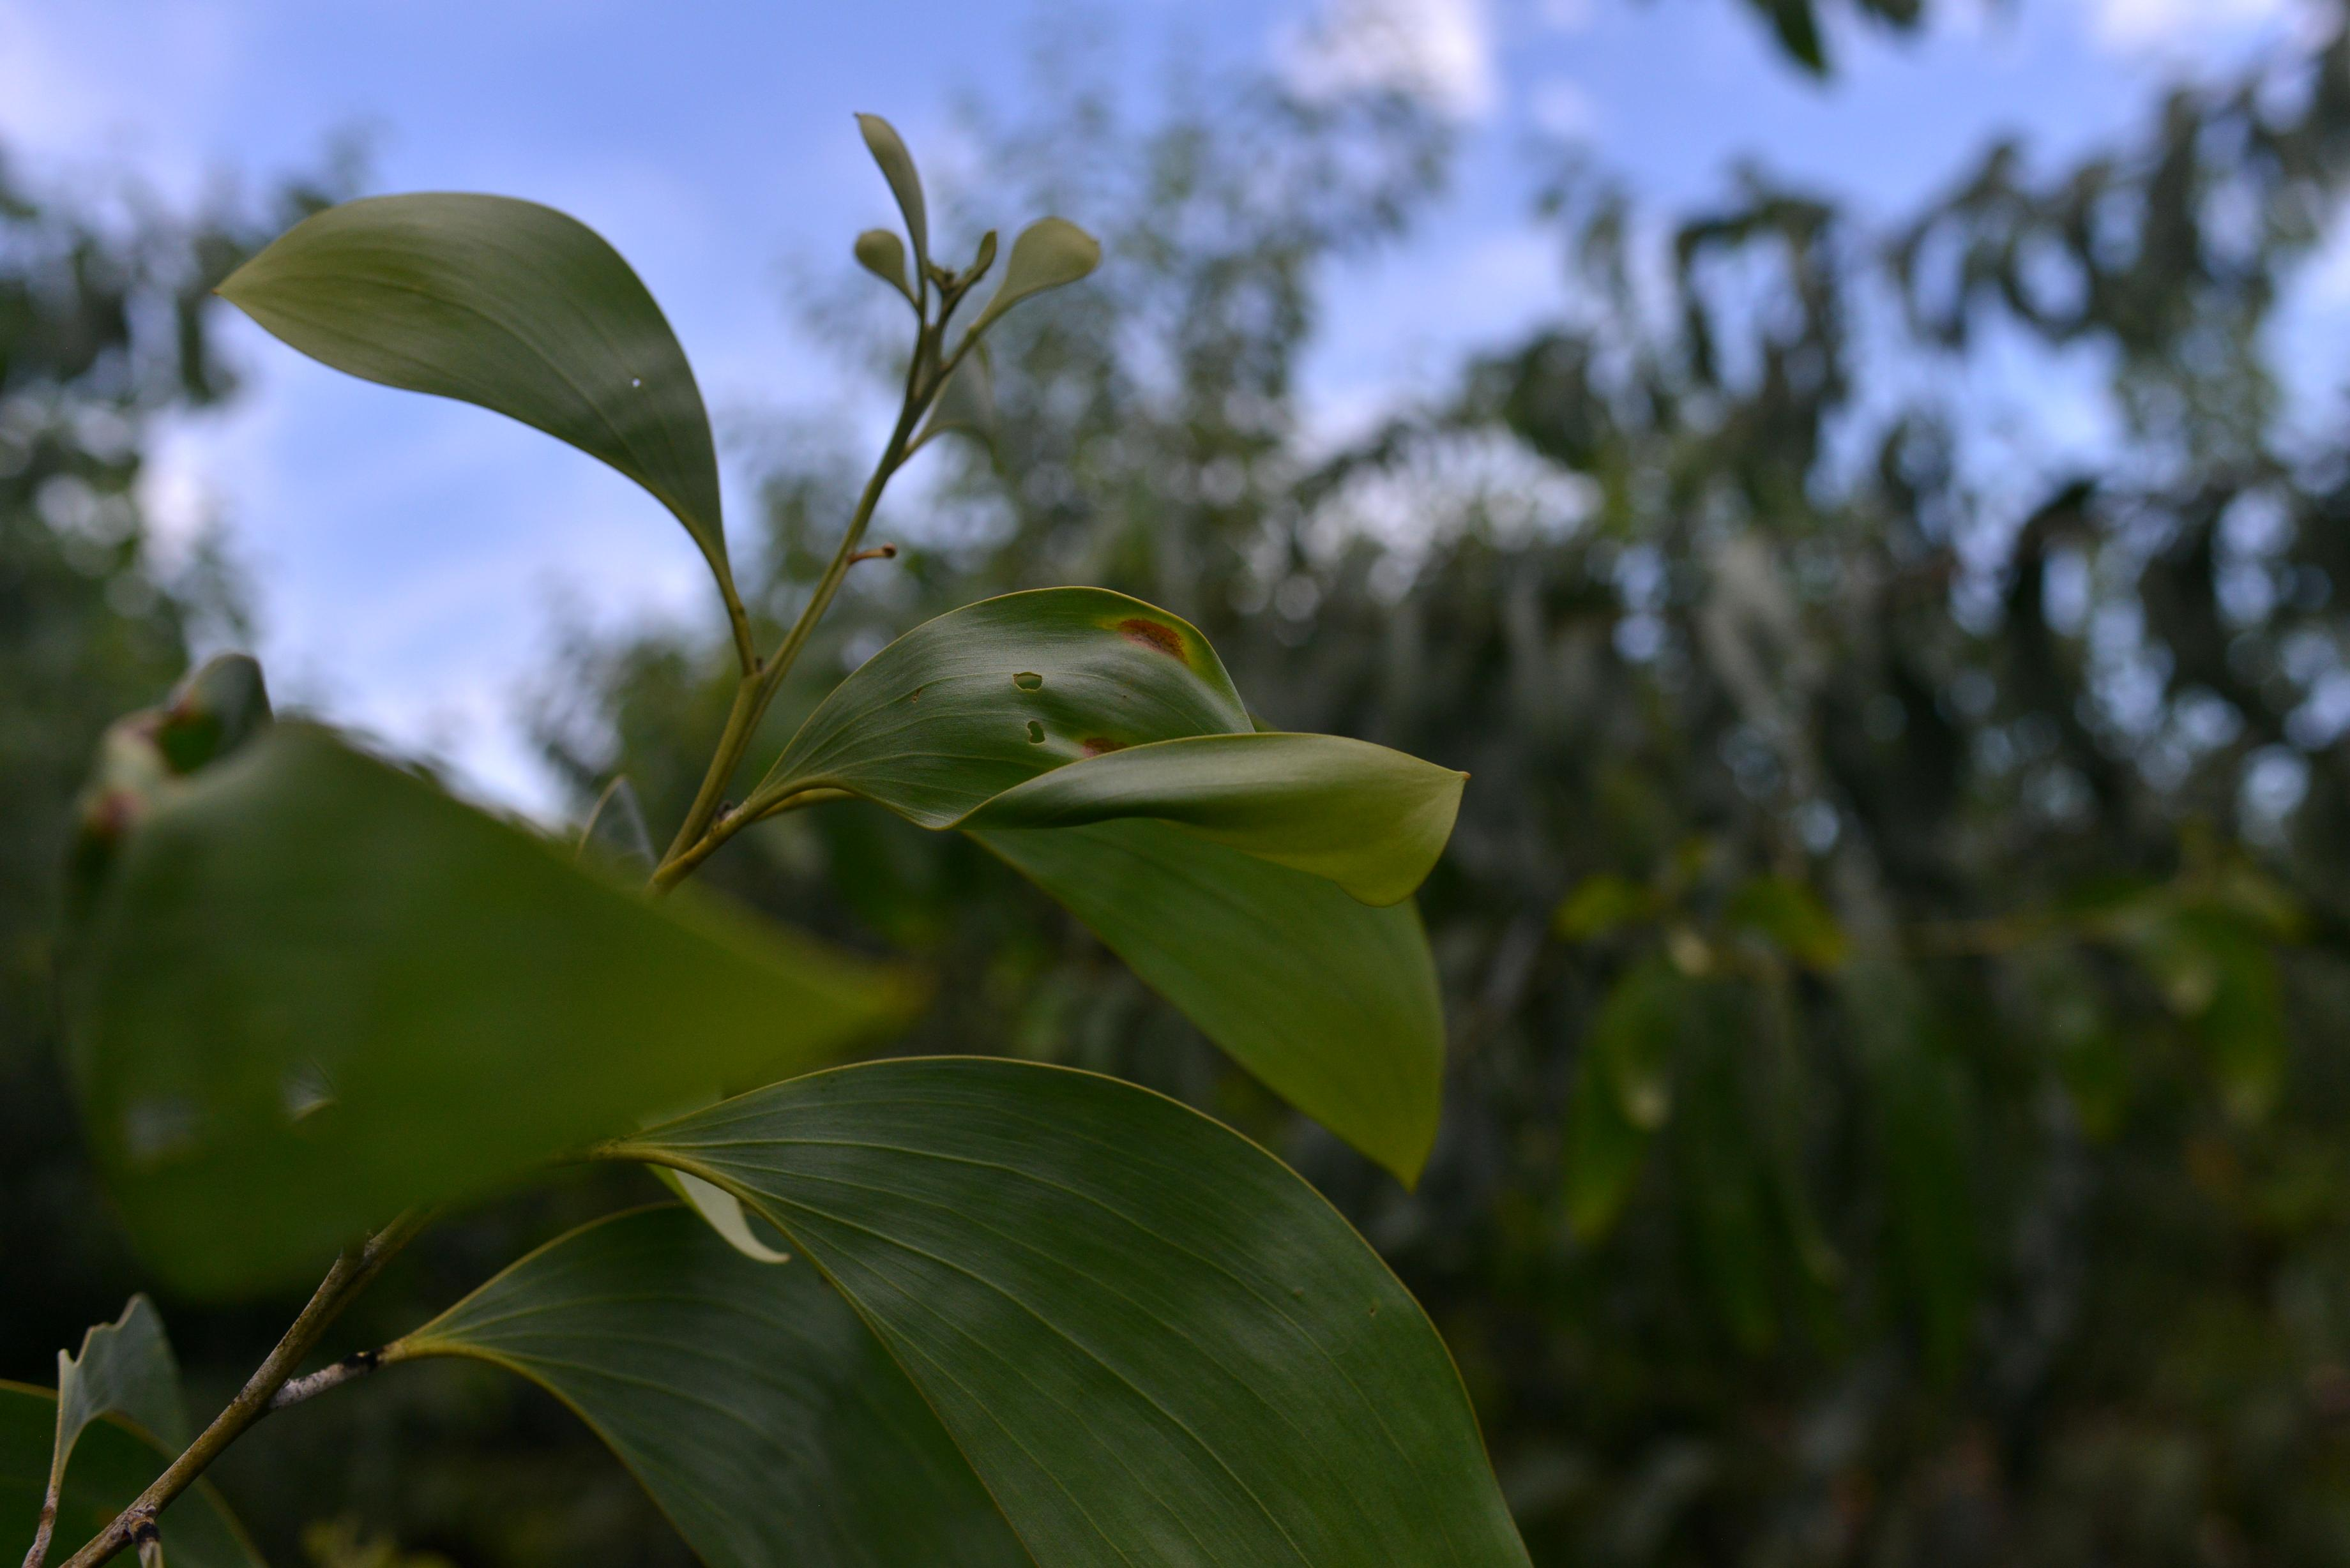Pasalora: (23, 649, 875, 1274), (817, 588, 1486, 1174)
